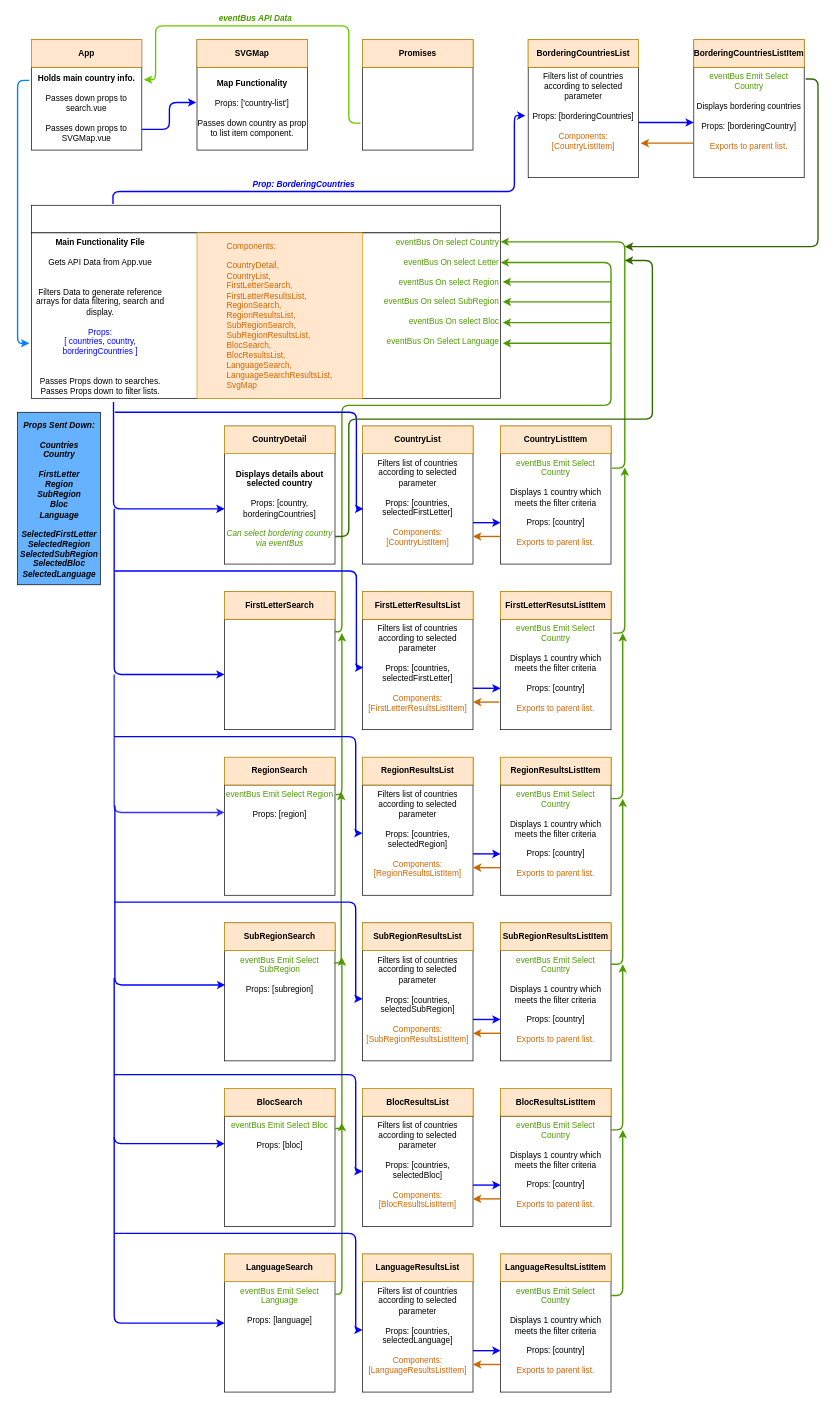
The diagram is 836 pixels wide and 1404 high, and some of its shapes have lost their labels. The shapes that lost their labels are listed below. From the top down, each one's centre as x and y in pixels, then its label:
At point (417, 108): "All fetch actions Takes no props eventBus back to App.vue".
At point (266, 219): "CountrySearch".
At point (279, 674): "eventBus Emit Select Letter Props: [letter]".
